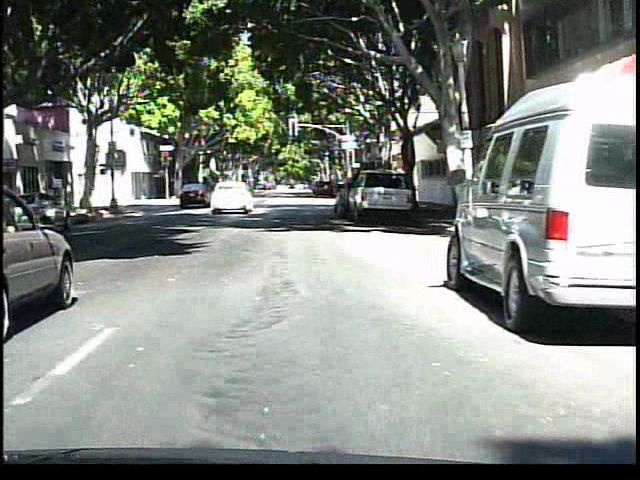person: (214, 171, 237, 208)
